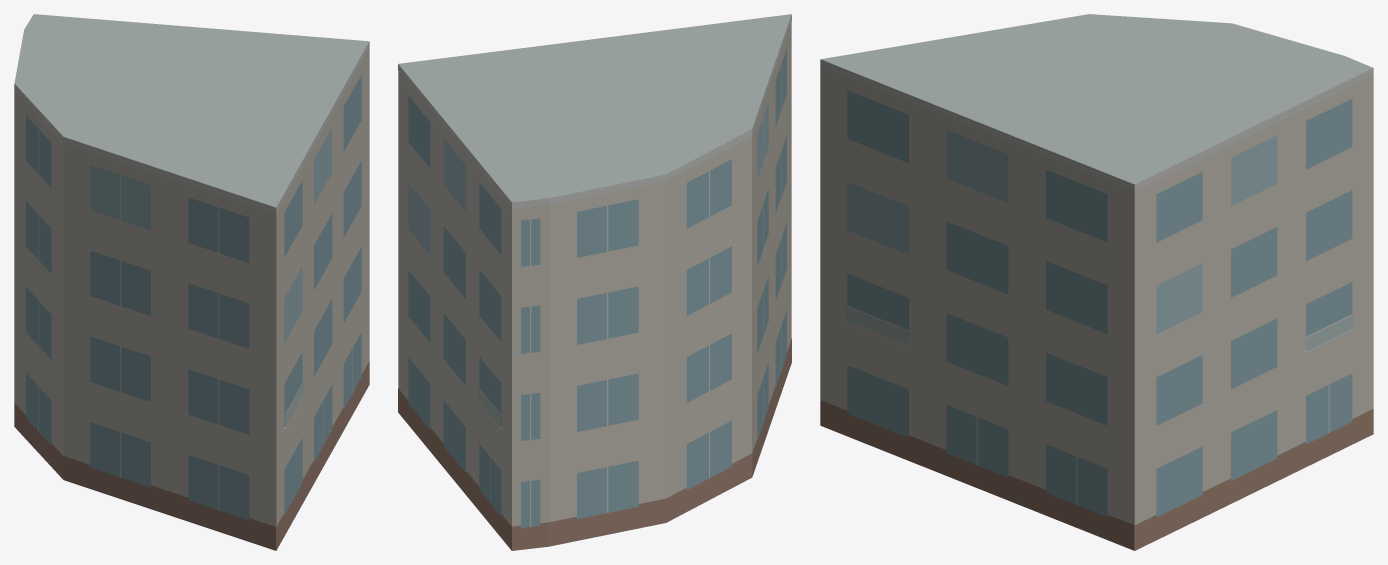
The model's file is survey-upis-32902235.glb.
3 renders of one model, left to right at view 1: azimuth 30°, elevation 25°; view 2: azimuth 150°, elevation 25°; view 3: azimuth 270°, elevation 25°, orthographic. The views are drawn at different scales.
Parts seen in each view (by area): view 1: survey-upis-32902235.tmp; view 2: survey-upis-32902235.tmp; view 3: survey-upis-32902235.tmp.
Part boxes in pixels (box(x1,y1,x2,y2)): survey-upis-32902235.tmp: box(14, 14, 369, 550); survey-upis-32902235.tmp: box(398, 14, 791, 550); survey-upis-32902235.tmp: box(820, 14, 1373, 550).
Bounding box in the file's own units: 12.79 × 12.8 × 17.52.
